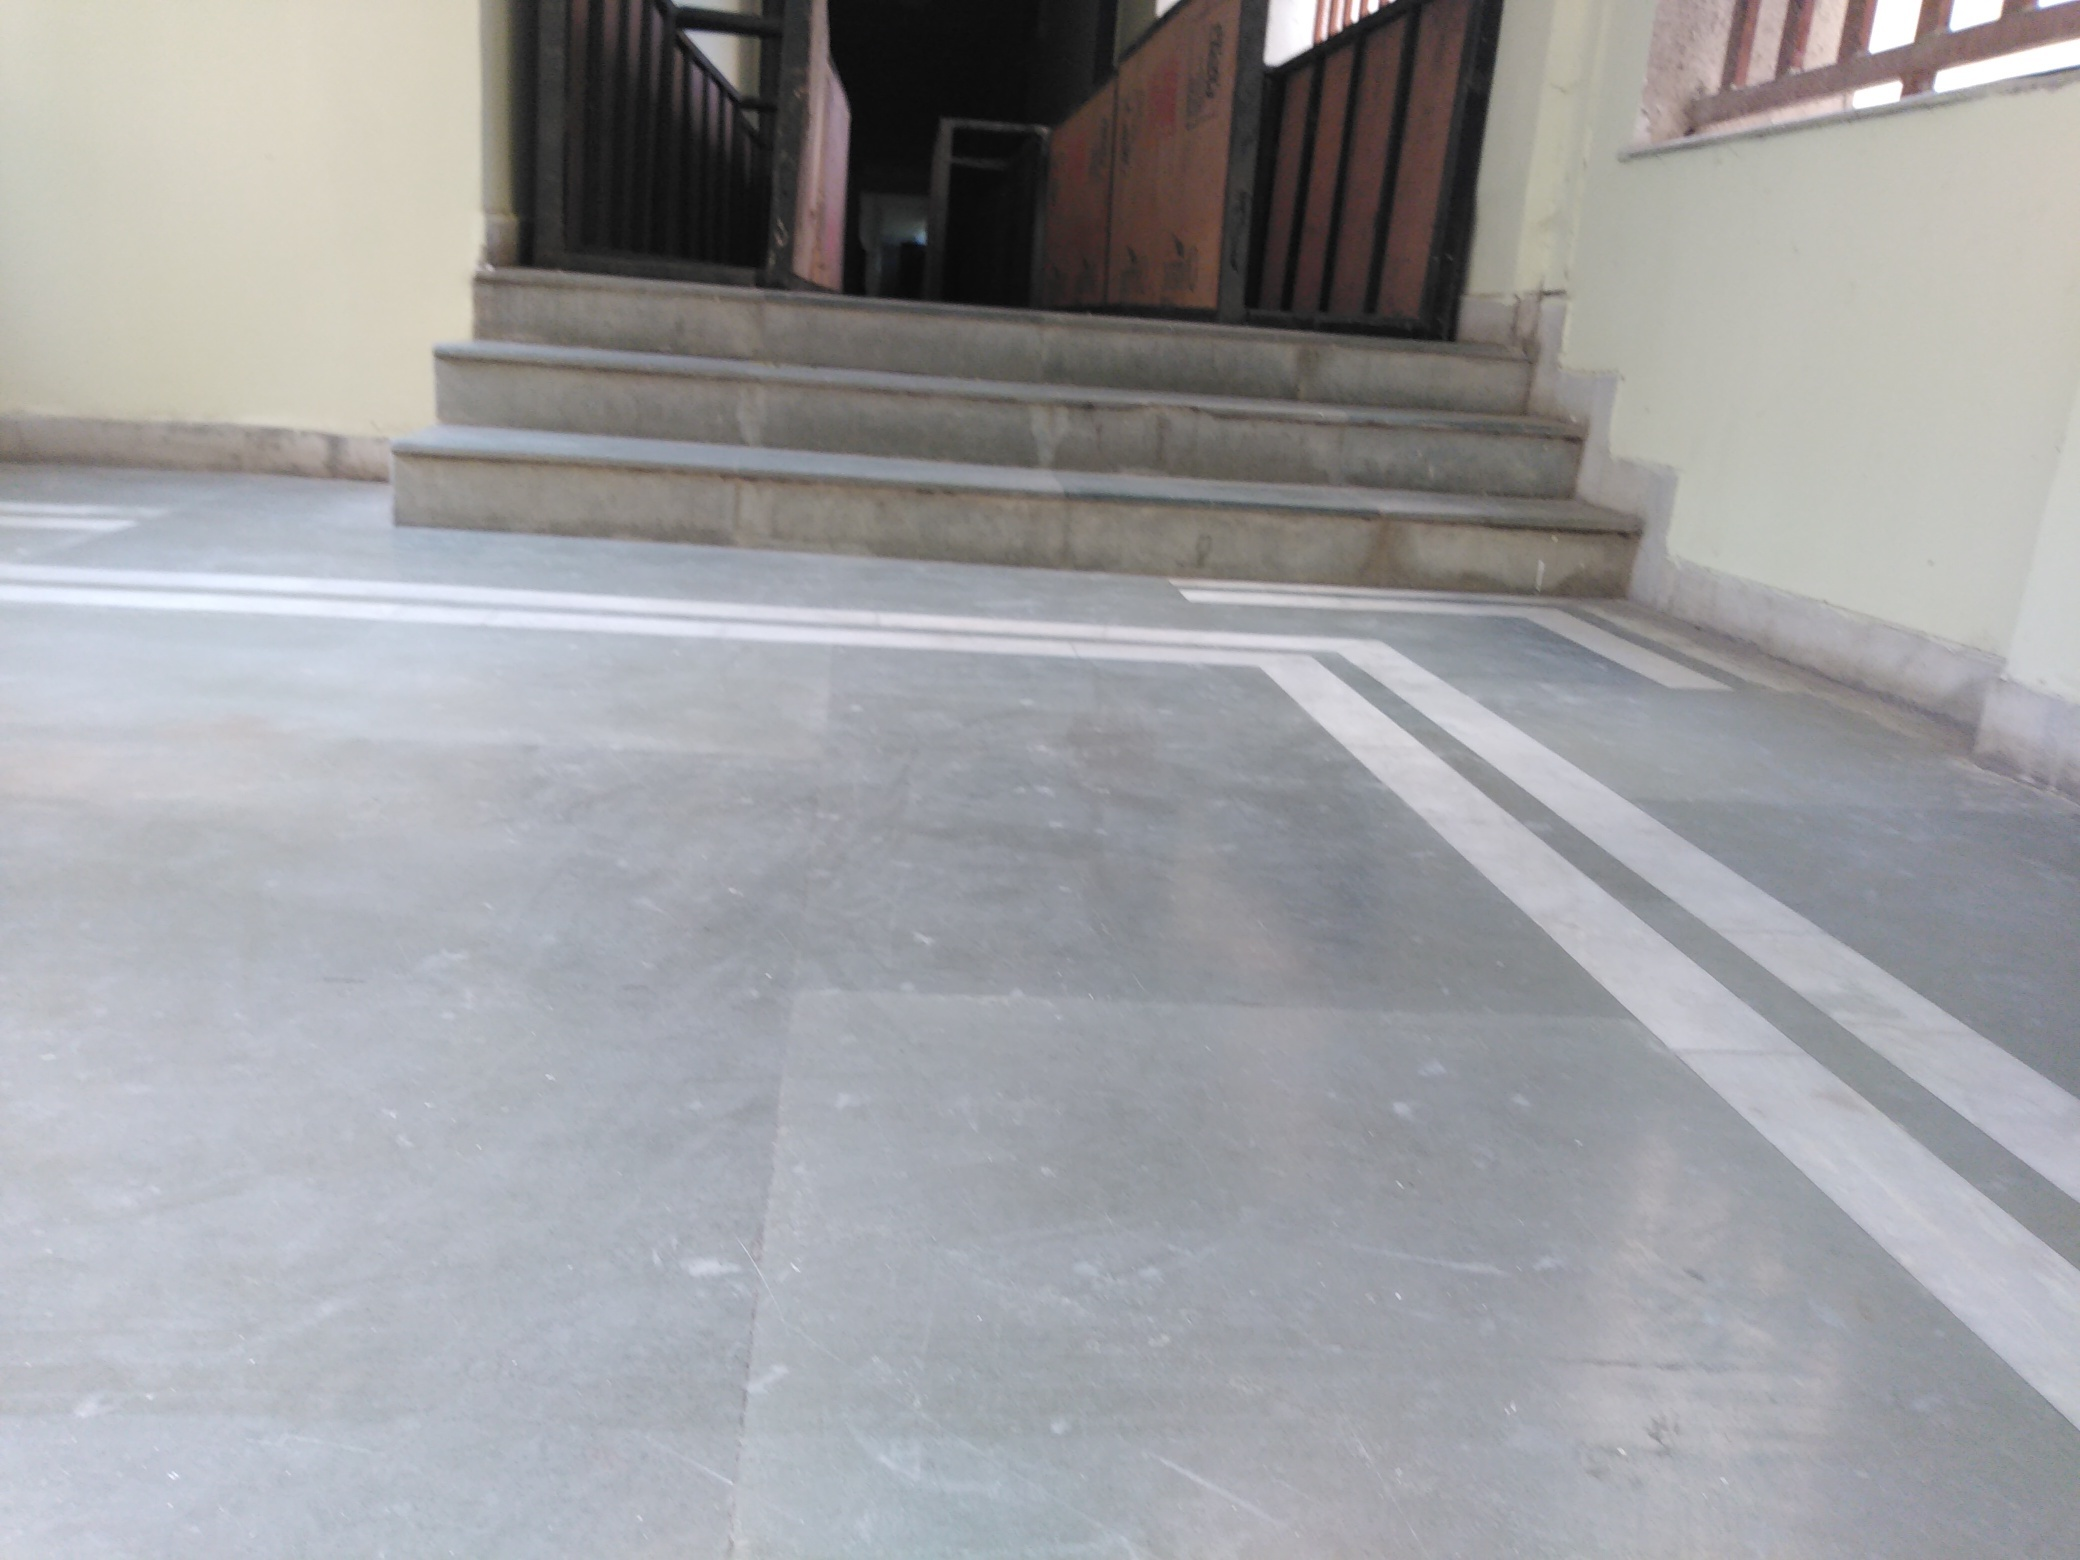stairs_up: (418, 262, 1597, 593)
